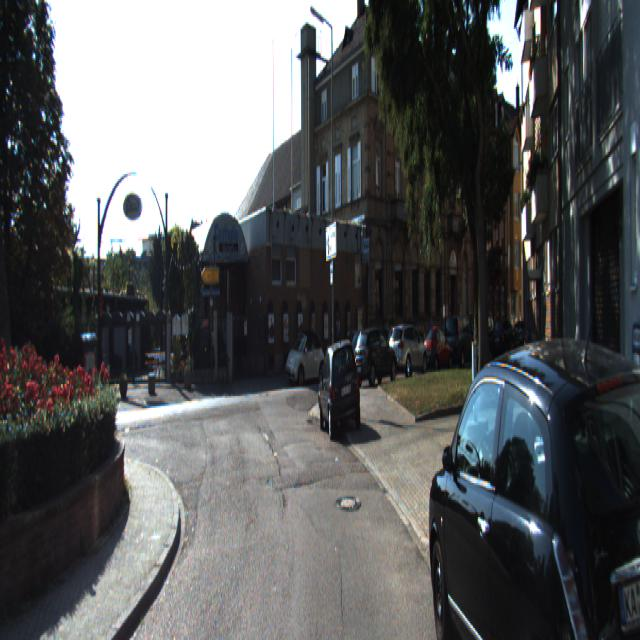Car: (426, 316, 640, 638), (318, 337, 362, 440), (353, 321, 398, 389), (285, 329, 326, 388), (388, 321, 428, 380), (444, 312, 478, 369), (424, 323, 453, 373)
